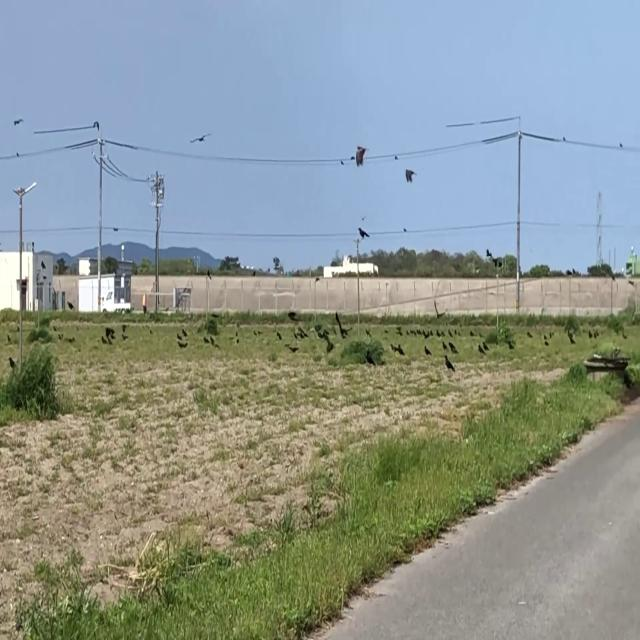bird: (356, 139, 365, 170), (194, 126, 206, 149), (406, 161, 414, 186), (445, 350, 453, 373), (14, 110, 22, 131), (485, 246, 492, 263), (451, 344, 456, 361), (181, 324, 186, 339), (478, 342, 482, 358), (398, 342, 402, 357), (589, 327, 592, 341)
